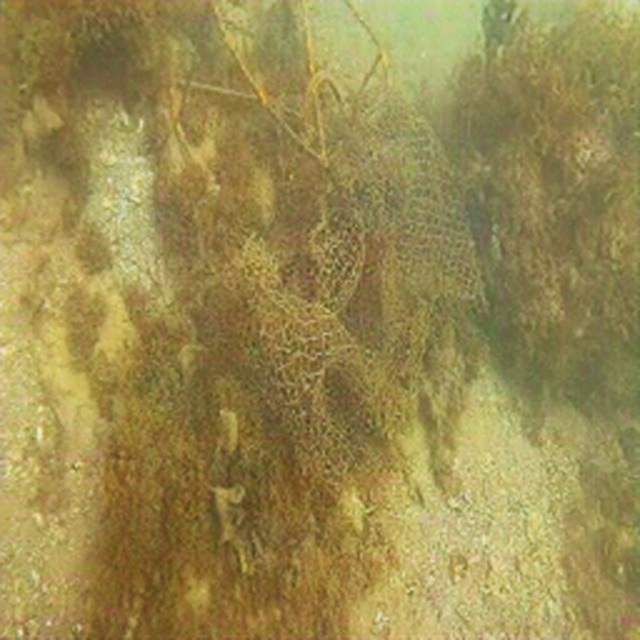mine: (221, 82, 486, 499)
